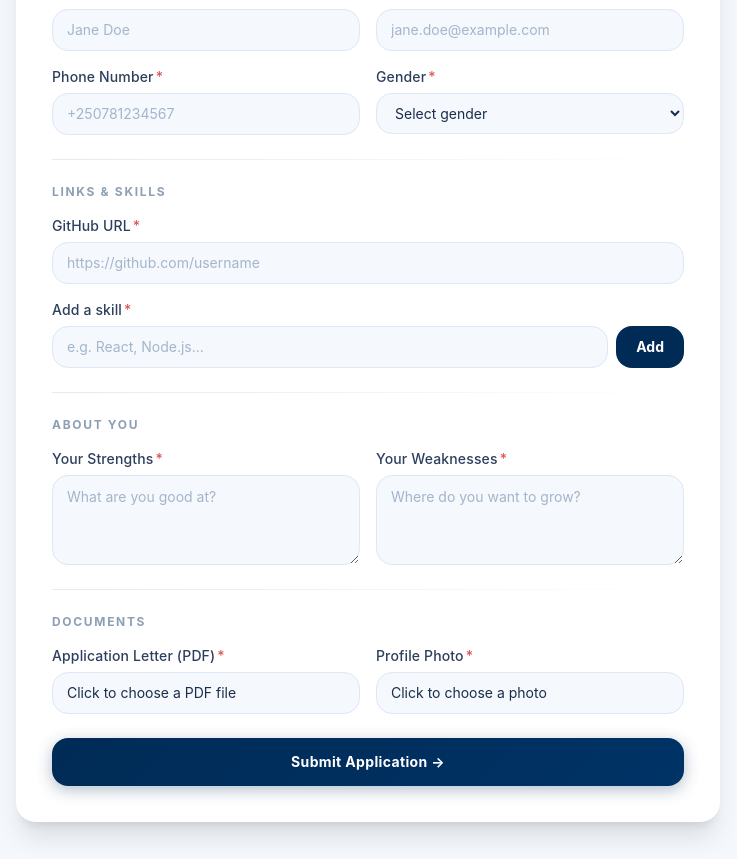
Scenario: ApplyPage › shows validation errors when submitting an empty form
(page scrolled)
Click the button "Submit Application →": point(368, 762) x1=52 y1=738 x2=684 y2=786
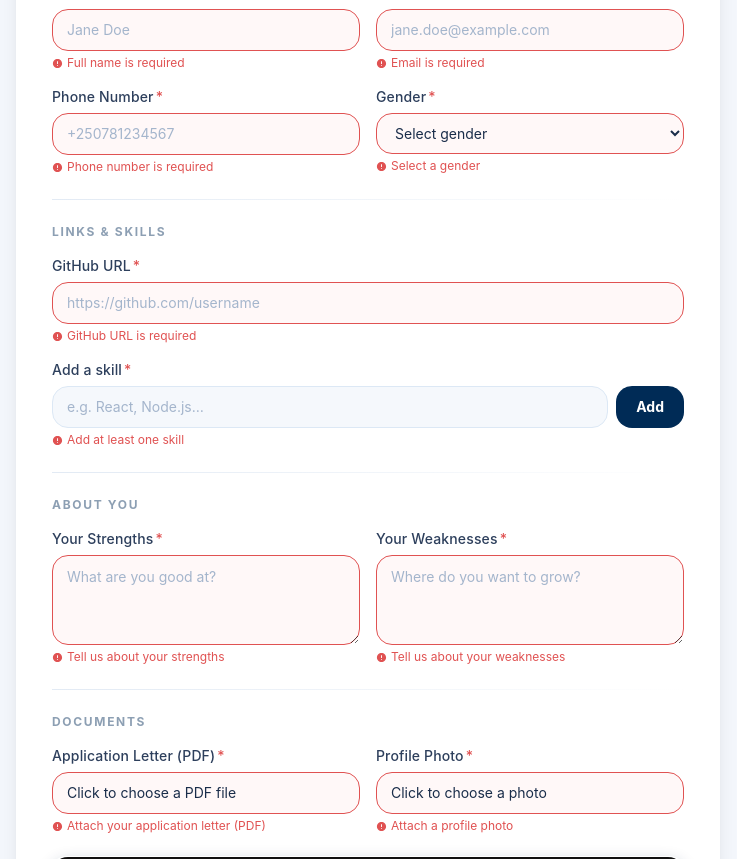
Expected: the text "Full name is required" is shown, x1=52 y1=55 x2=185 y2=70
